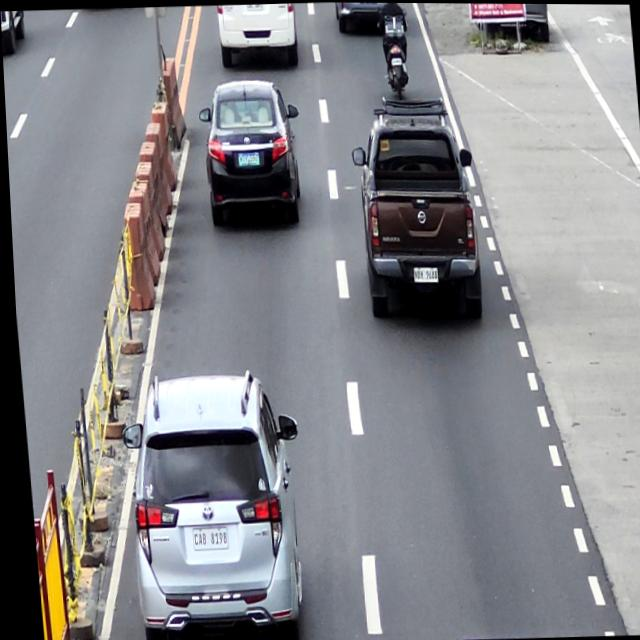Car: (111, 370, 308, 640), (348, 109, 484, 327), (195, 77, 305, 229), (216, 2, 299, 68), (334, 2, 394, 32)
License-Plate: (185, 527, 222, 548), (410, 267, 436, 283), (235, 150, 258, 166), (390, 56, 402, 65)
Motorcycle: (377, 10, 413, 98)
